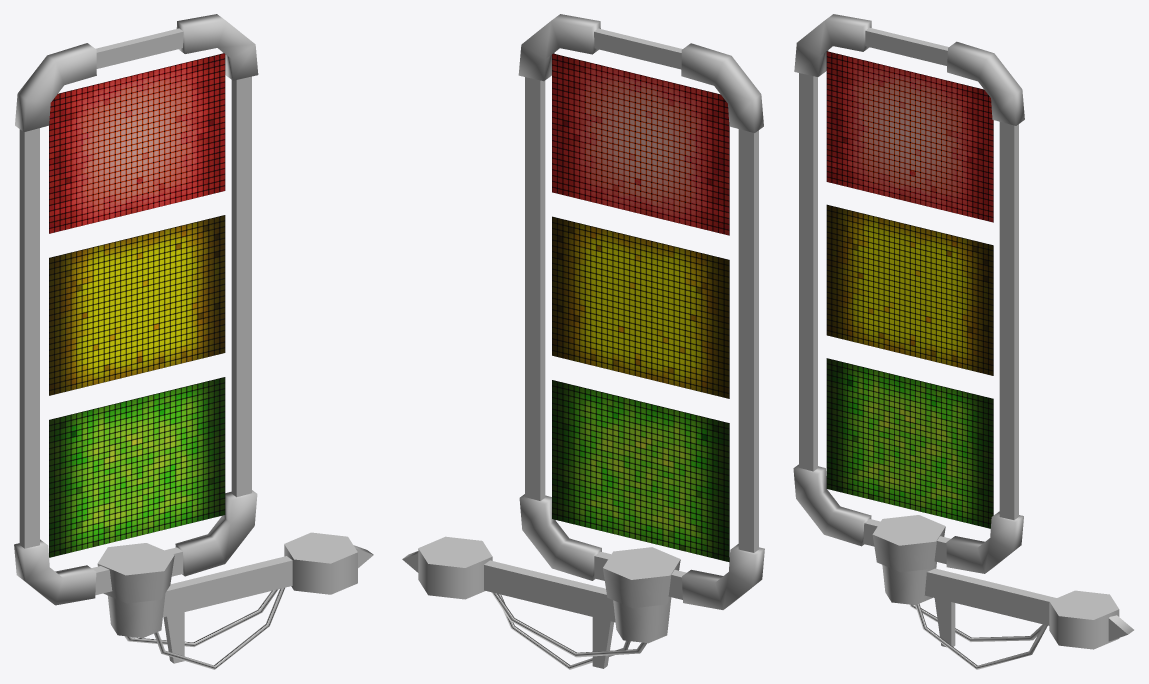
File: Streetlight1_LOD1.fbx
3 views of the same model, side by side, from view 1: azimuth 30°, elevation 25°; view 2: azimuth 150°, elevation 25°; view 3: azimuth 330°, elevation 25° (orthographic). The views are drawn at different scales.
Parts seen in each view (by area): view 1: polySurface304; view 2: polySurface304; view 3: polySurface304.
Boxes of the visible parts, bbox=[...] form: polySurface304: bbox=[14, 14, 373, 669]; polySurface304: bbox=[402, 14, 764, 669]; polySurface304: bbox=[793, 14, 1133, 669].
Bounding box in the file's own units: 0.4785 × 0.8443 × 0.091.
